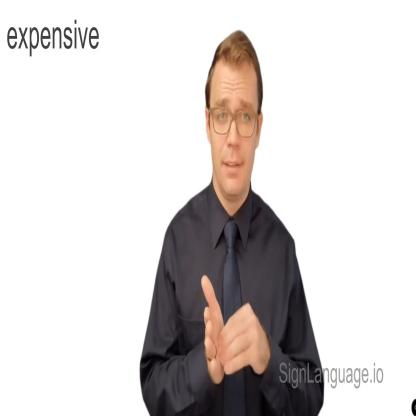Expensive: (193, 262, 264, 389)
